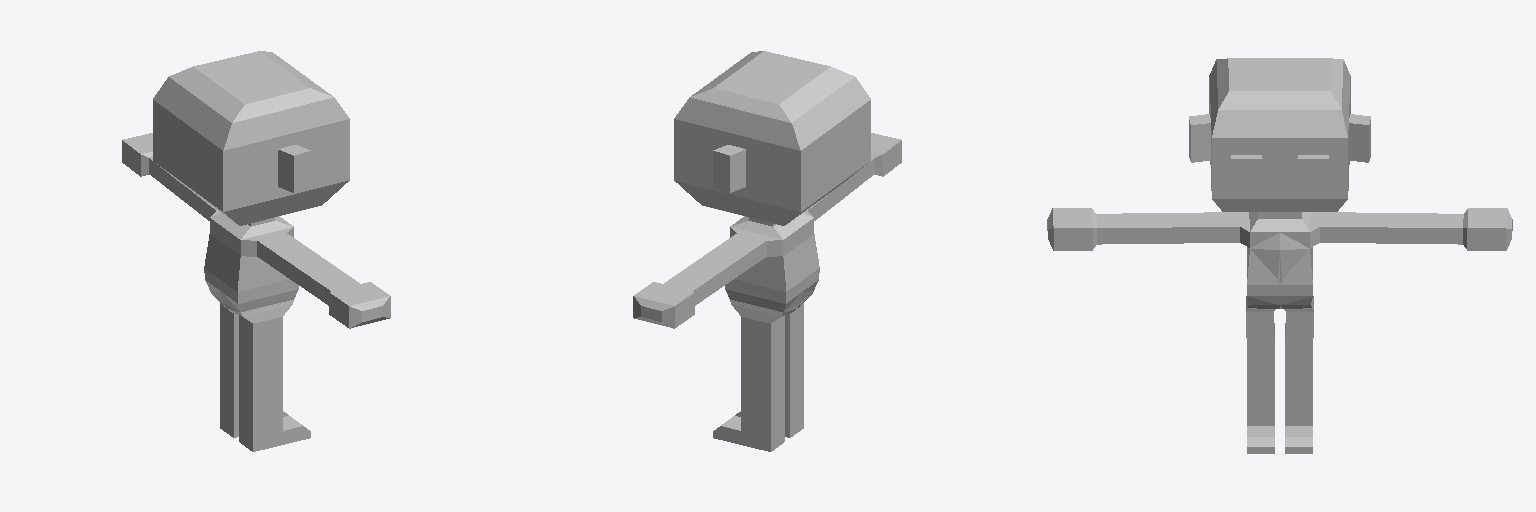
The model's file is Ludzik3-textured-1-parts.obj.
3 renders of one model, left to right at view 1: azimuth 30°, elevation 25°; view 2: azimuth 150°, elevation 25°; view 3: azimuth 270°, elevation 25°, orthographic.
Visible parts, largest first — view 1: Postac_Cube, Reka_Cube.001; view 2: Postac_Cube, Reka_Cube.001; view 3: Postac_Cube, Reka_Cube.001.
Boxes of the visible parts, <box> form: Postac_Cube: <box>153,51,390,451</box>; Reka_Cube.001: <box>122,133,217,220</box>; Postac_Cube: <box>674,51,901,451</box>; Reka_Cube.001: <box>633,233,766,328</box>; Postac_Cube: <box>1047,58,1370,453</box>; Reka_Cube.001: <box>1320,208,1512,250</box>.
Size of the model in its own units: 5.08 by 12.78 by 15.01.